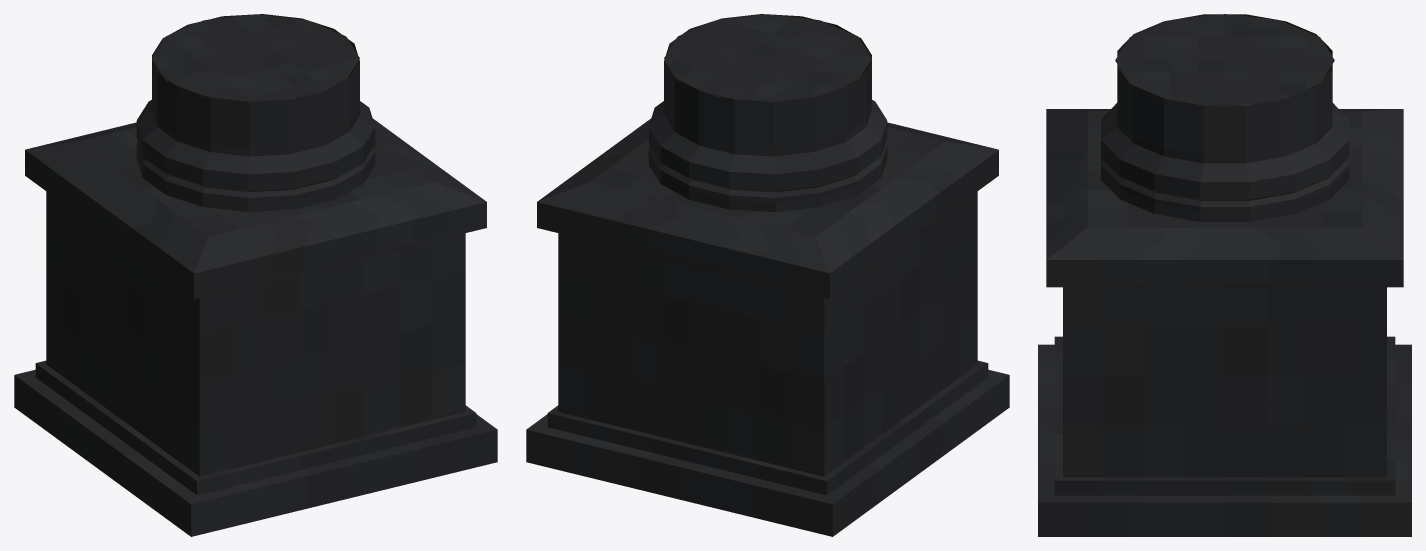
File: decopole_lawestwood_inv.obj
3 views of the same model, side by side, from view 1: azimuth 30°, elevation 25°; view 2: azimuth 150°, elevation 25°; view 3: azimuth 270°, elevation 25° (orthographic). The views are drawn at different scales.
Parts seen in each view (by area): view 1: decopole_lawestwood_inv; view 2: decopole_lawestwood_inv; view 3: decopole_lawestwood_inv.
Boxes of the visible parts, x1,y1,x2,y2 form: decopole_lawestwood_inv: (14, 14, 497, 536); decopole_lawestwood_inv: (526, 14, 1009, 536); decopole_lawestwood_inv: (1038, 14, 1411, 536).
Bounding box in the file's own units: 0.85 × 1 × 0.85.
